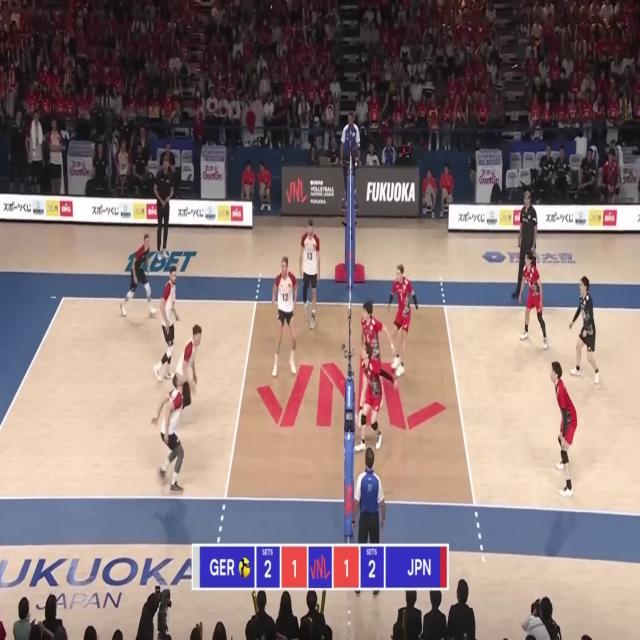referee: (354, 446, 386, 600)
team_one: (151, 372, 186, 496), (121, 233, 157, 318), (272, 256, 297, 377), (153, 266, 179, 382), (174, 324, 206, 415), (299, 220, 321, 330)
team_two: (355, 343, 398, 455), (550, 360, 580, 498), (569, 275, 602, 384), (387, 262, 418, 378), (518, 250, 548, 350), (360, 301, 396, 367)
